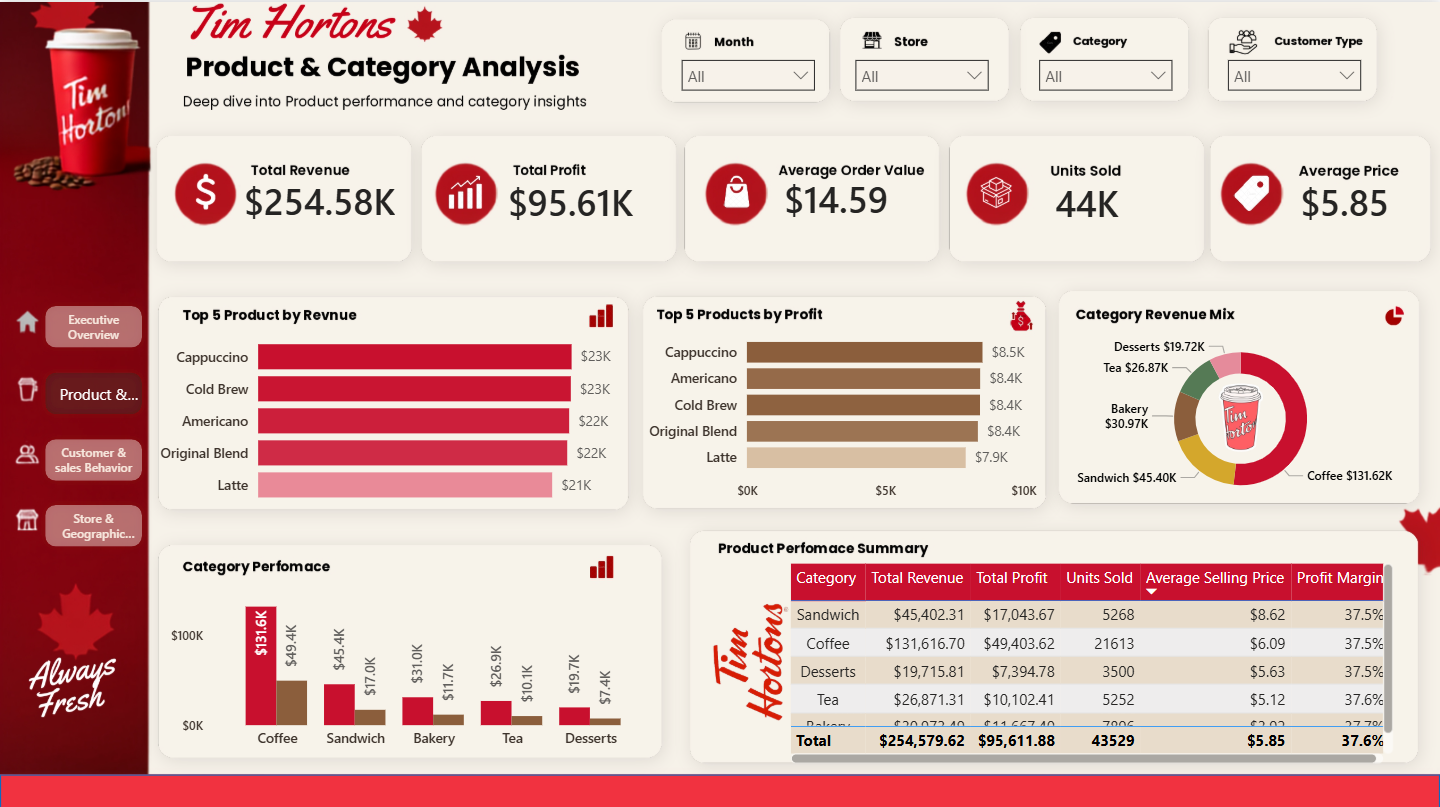

This screenshot's page, from the dashboard's own definition file:
{"tool":"powerbi","page":{"name":"Product & Category","canvas":[1280,720],"ordinal":1},"visuals":[{"type":"slicer","fields":{"Values":["DimDate.Month Name"]},"box":[595.2,40.7,138.6,49.9],"z":0},{"type":"slicer","fields":{"Values":["DimStore.Store"]},"box":[749.5,40.7,138.6,49.9],"z":1000},{"type":"slicer","fields":{"Values":["DimProduct.Category"]},"box":[913.1,40.7,138.6,49.9],"z":2000},{"type":"slicer","fields":{"Values":["SalesData.CustomerType"]},"box":[1081.3,40.7,138.6,49.9],"z":3000},{"type":"cardVisual","fields":{"Data":["Measures (2).Total Revenue"]},"box":[187.6,130.3,195,90.6],"z":4000},{"type":"cardVisual","fields":{"Data":["Measures (2).Total Profit"]},"box":[422.4,132.2,173.7,86.9],"z":5000},{"type":"cardVisual","fields":{"Data":["Measures (2).Units Sold"]},"box":[909.4,135.9,124.8,82.3],"z":6000},{"type":"cardVisual","fields":{"Data":["Measures (2).Average Order Value"]},"box":[668.2,130.3,173.7,86.9],"z":7000},{"type":"cardVisual","fields":{"Data":["Measures (2).Average Selling Price"]},"box":[1126.6,132.2,153.4,86.9],"z":8000},{"type":"clusteredBarChart","fields":{"Category":["DimProduct.Product"],"Y":["Measures (2).Total Revenue"]},"box":[136.7,279.8,423.9,177.7],"z":9000},{"type":"clusteredBarChart","fields":{"Category":["DimProduct.Product"],"Y":["Measures (2).Total Profit"]},"box":[571.1,279.8,361.8,171.4],"z":10000},{"type":"donutChart","fields":{"Category":["DimProduct.Category"],"Y":["Measures (2).Total Revenue"]},"box":[948.2,289.3,310.5,163.6],"z":11000},{"type":"clusteredColumnChart","fields":{"Category":["DimProduct.Category"],"Y":["Measures (2).Total Revenue","Measures (2).Total Profit"]},"box":[146.9,500.9,439.9,171.9],"z":12000},{"type":"tableEx","fields":{"Values":["DimProduct.Category","Measures (2).Total Revenue","Measures (2).Total Profit","Measures (2).Units Sold","Measures (2).Average Selling Price","Measures (2).Profit Margin"]},"box":[696.6,494,546.7,187.5],"z":13000},{"type":"image","box":[1065.6,321.6,74.9,97],"z":14000},{"type":"image","box":[561,501.8,212.6,169.1],"z":15000},{"type":"pageNavigator","box":[31.7,262.3,102.8,230.6],"z":16000},{"type":"shape","box":[0,687,1280,33],"z":16001}]}

Visuals, with their boxes on the page's 1280x720 design canvas (x1, y1, x2, y2). These are canvas units, not pixel positions in the 1440x807 screenshot, which may show the page scaled, cropped or inside an application window:
slicer - DimDate.Month Name: {"left": 595, "top": 41, "right": 734, "bottom": 91}
slicer - DimStore.Store: {"left": 750, "top": 41, "right": 888, "bottom": 91}
slicer - DimProduct.Category: {"left": 913, "top": 41, "right": 1052, "bottom": 91}
slicer - SalesData.CustomerType: {"left": 1081, "top": 41, "right": 1220, "bottom": 91}
cardVisual - Measures (2).Total Revenue: {"left": 188, "top": 130, "right": 383, "bottom": 221}
cardVisual - Measures (2).Total Profit: {"left": 422, "top": 132, "right": 596, "bottom": 219}
cardVisual - Measures (2).Units Sold: {"left": 909, "top": 136, "right": 1034, "bottom": 218}
cardVisual - Measures (2).Average Order Value: {"left": 668, "top": 130, "right": 842, "bottom": 217}
cardVisual - Measures (2).Average Selling Price: {"left": 1127, "top": 132, "right": 1280, "bottom": 219}
clusteredBarChart - DimProduct.Product x Measures (2).Total Revenue: {"left": 137, "top": 280, "right": 561, "bottom": 458}
clusteredBarChart - DimProduct.Product x Measures (2).Total Profit: {"left": 571, "top": 280, "right": 933, "bottom": 451}
donutChart - DimProduct.Category x Measures (2).Total Revenue: {"left": 948, "top": 289, "right": 1259, "bottom": 453}
clusteredColumnChart - DimProduct.Category x Measures (2).Total Revenue: {"left": 147, "top": 501, "right": 587, "bottom": 673}
tableEx - DimProduct.Category x Measures (2).Total Revenue: {"left": 697, "top": 494, "right": 1243, "bottom": 682}
image: {"left": 1066, "top": 322, "right": 1140, "bottom": 419}
image: {"left": 561, "top": 502, "right": 774, "bottom": 671}
pageNavigator: {"left": 32, "top": 262, "right": 134, "bottom": 493}
shape: {"left": 0, "top": 687, "right": 1280, "bottom": 720}
